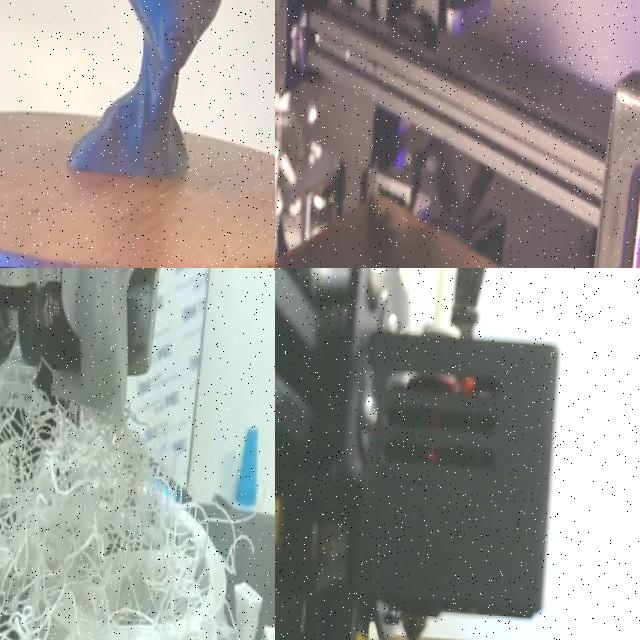spaghetti: (0, 351, 169, 640)
